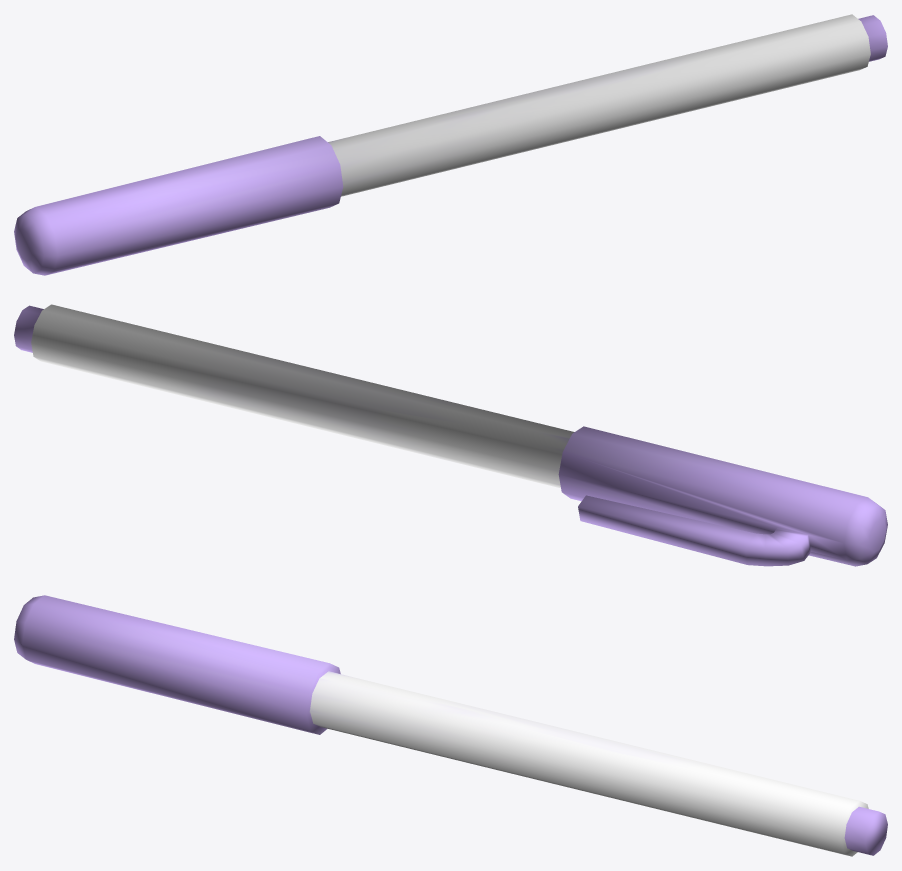
Rendered from Pen.fbx.
3 renders of one model, top to bottom at view 1: azimuth 30°, elevation 25°; view 2: azimuth 150°, elevation 25°; view 3: azimuth 330°, elevation 25°, orthographic.
Parts seen in each view (by area): view 1: Cylinder; view 2: Cylinder; view 3: Cylinder.
Part boxes in pixels (x1,y1,x2,y2): Cylinder: (14,14,887,275); Cylinder: (14,304,887,566); Cylinder: (14,595,887,856).
Size of the model in its own units: 69.22 by 5.02 by 7.92.
